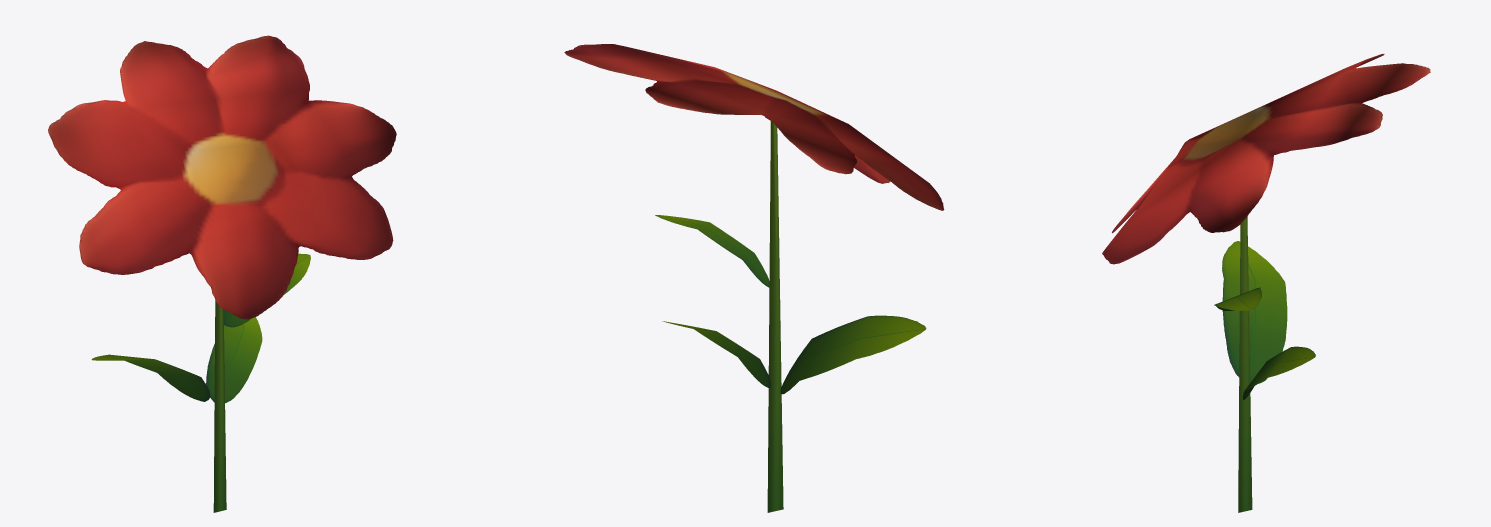
File: Flower_2.fbx
3 renders of one model, left to right at view 1: azimuth 30°, elevation 25°; view 2: azimuth 150°, elevation 25°; view 3: azimuth 270°, elevation 25°, orthographic. The views are drawn at different scales.
Parts seen in each view (by area): view 1: Flower_2; view 2: Flower_2; view 3: Flower_2.
Part boxes in pixels (<box>): Flower_2: <box>48,35,396,512</box>; Flower_2: <box>564,44,944,512</box>; Flower_2: <box>1102,54,1430,512</box>.
Size of the model in its own units: 0.2866 by 0.2899 by 0.2505.
